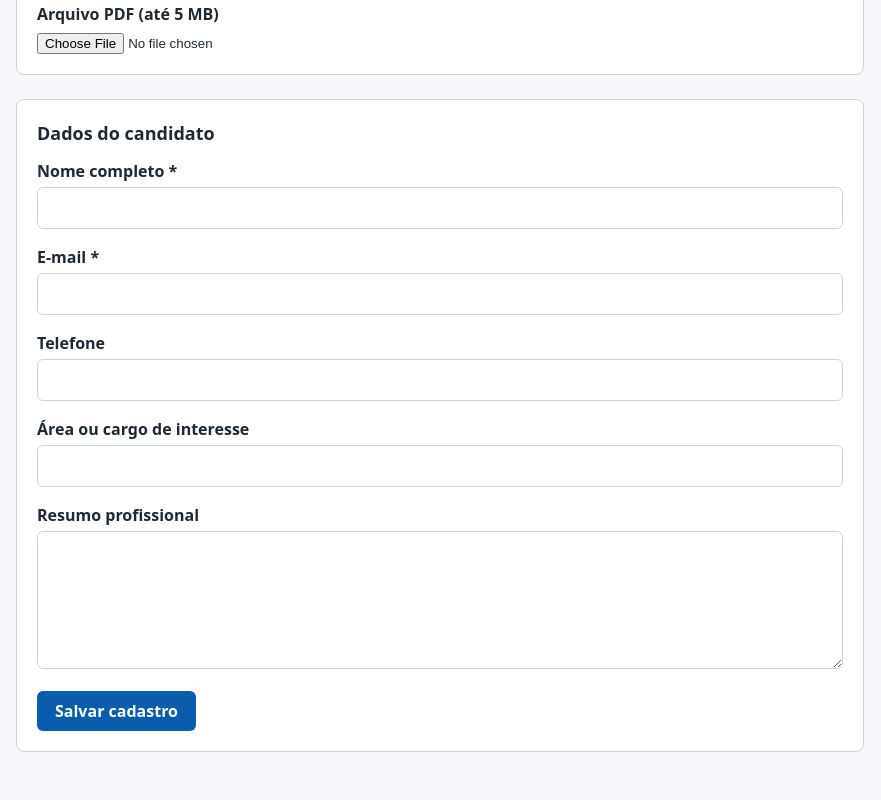
Scenario: validação no front › editar o campo apaga o erro dele
(page scrolled)
Click the button "Salvar cadastro" at (116, 711), box 37,691 -> 196,731
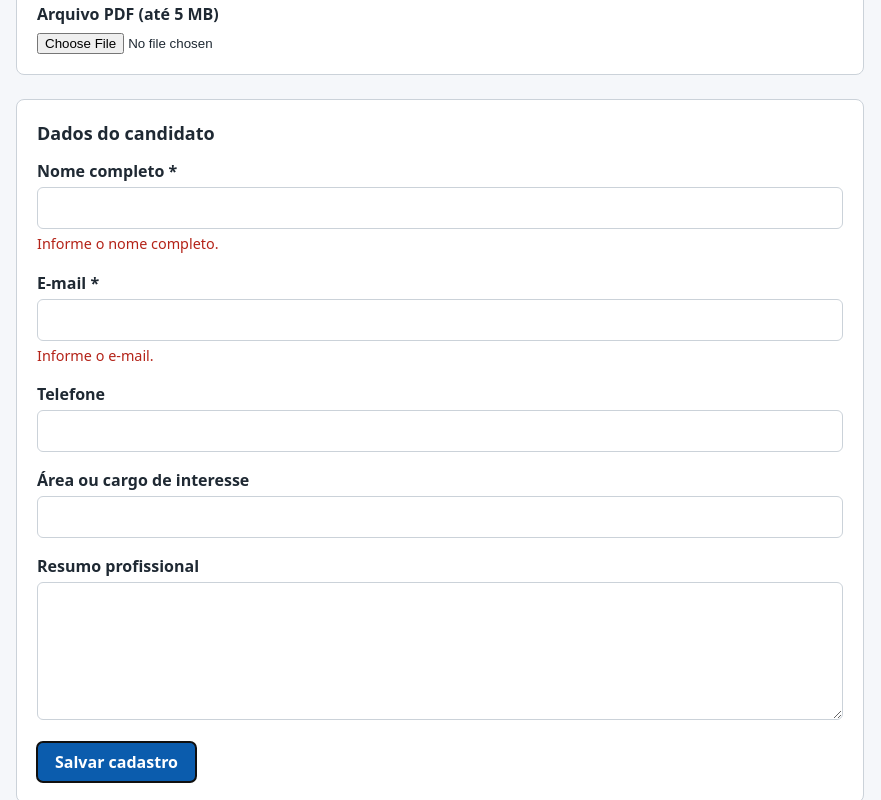
Type "M" into the field labelled "Nome completo" at (440, 208), box 37,187 -> 843,229
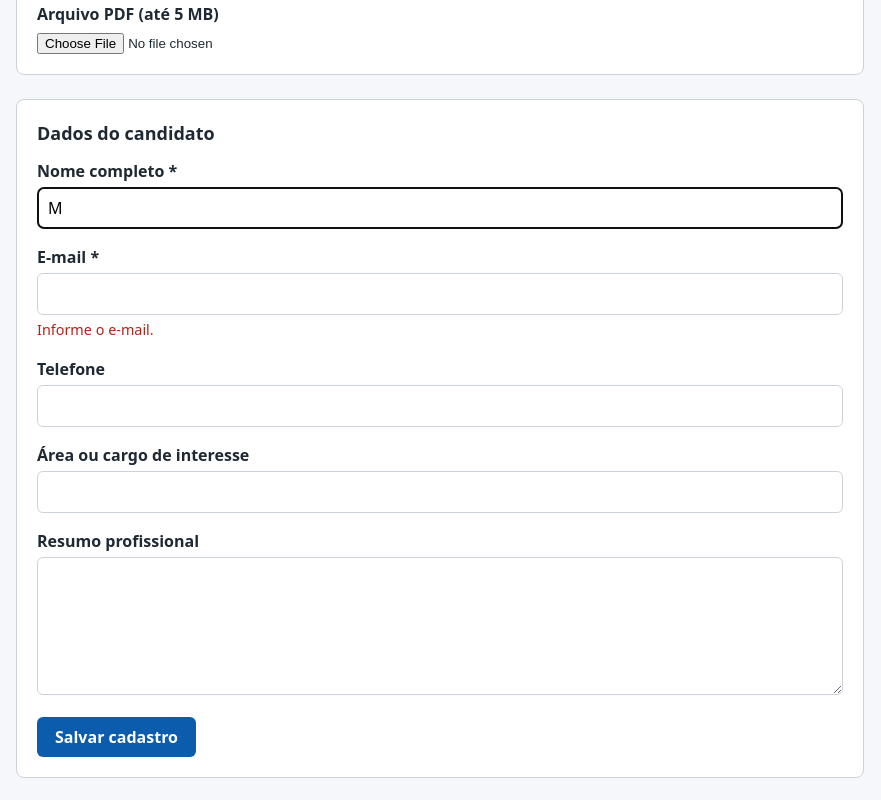
Expected: the text "Informe o e-mail." is shown, 37,320 -> 154,339
Expected: the text "Informe o nome completo." is gone
